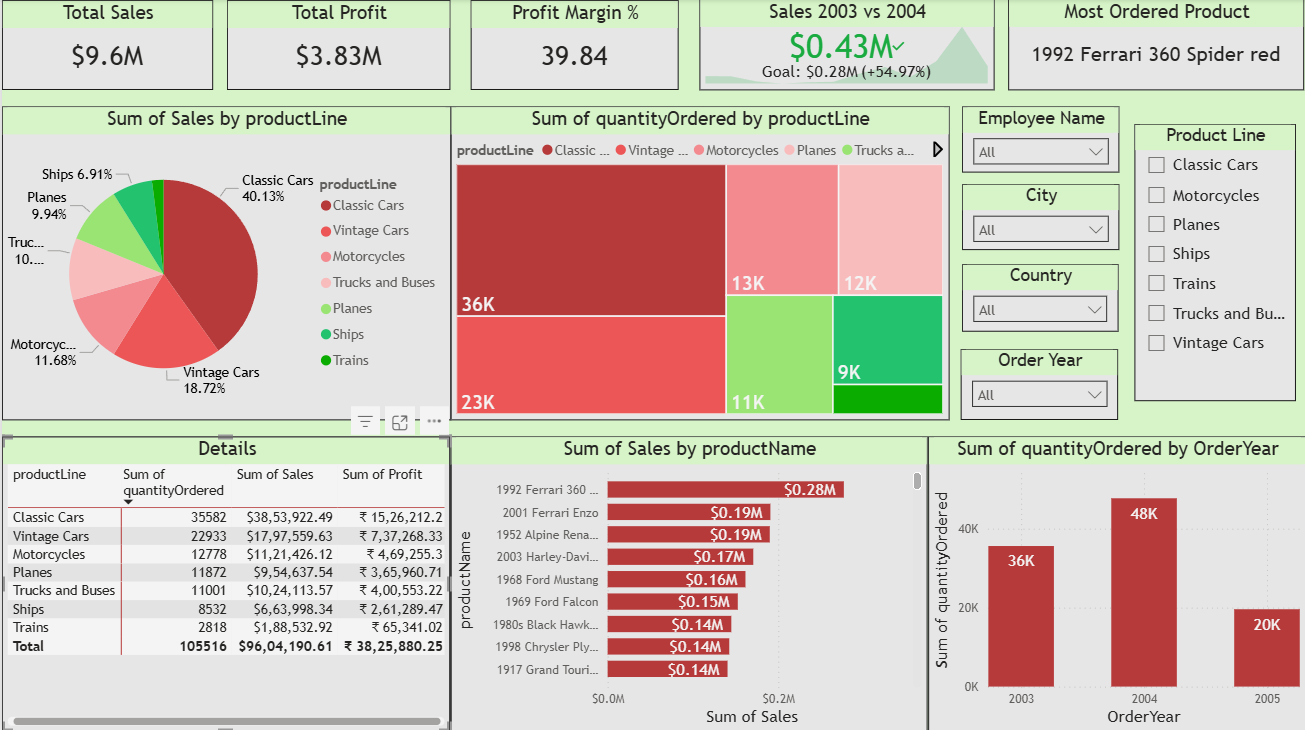

The page's visual inventory and layout, read from the dashboard file:
{"tool":"powerbi","page":{"name":"Page 2","canvas":[1280,720],"ordinal":0},"visuals":[{"type":"barChart","fields":{"Category":["products.productName"],"Y":["Sum(order details.Sales)"]},"box":[440.9,430,468.3,290.3],"z":0},{"type":"pieChart","fields":{"Category":["products.productLine"],"Y":["Sum(order details.Sales)"]},"box":[0,105.4,440.9,308.1],"z":1000},{"type":"pivotTable","title":"Details","fields":{"Rows":["products.productLine"],"Values":["Sum(order details.quantityOrdered)","Sum(order details.Sales)","Sum(order details.Profit)"]},"box":[0,430,440.9,290.3],"z":2000},{"type":"card","title":"Total Profit","fields":{"Values":["order details.Total_Profit"]},"box":[220.8,1.4,219.4,88.1],"z":3000},{"type":"kpi","title":"Sales 2003 vs 2004","fields":{"Goal":["orders.sales_2003"],"Indicator":["orders.sales_2004"],"TrendLine":["orders.Month_number"]},"box":[684.9,0,289.3,89.5],"z":4000},{"type":"treemap","fields":{"Group":["productlines.productLine"],"Values":["Sum(order details.quantityOrdered)"]},"box":[440.5,105.5,489.6,308],"z":5000},{"type":"columnChart","fields":{"Category":["orders.OrderYear"],"Y":["Sum(order details.quantityOrdered)"]},"box":[909.2,430,371.1,290.3],"z":6000},{"type":"card","title":"Profit Margin %","fields":{"Values":["order details.Profit_Margin%"]},"box":[459.8,1.4,204.1,88.1],"z":7000},{"type":"card","title":"Total Sales","fields":{"Values":["order details.Total_sale"]},"box":[0,1.4,206.9,88.1],"z":8000},{"type":"card","title":"Most Ordered Product","fields":{"Values":["orders.Top Product"]},"box":[988.2,0,290.7,89.5],"z":9000},{"type":"slicer","title":"Employee Name","fields":{"Values":["employees.FullName"]},"box":[942.3,105.5,154.6,65],"z":10000},{"type":"slicer","title":"City","fields":{"Values":["customers.city"]},"box":[942.3,181.6,154.6,65],"z":11000},{"type":"slicer","title":"Product Line","fields":{"Values":["products.productLine"]},"box":[1111.7,122.7,158.3,272.4],"z":12000},{"type":"slicer","title":"Order Year","fields":{"Values":["orders.YearofOrder"]},"box":[941.1,343.6,154.6,69.9],"z":13000},{"type":"slicer","title":"Country","fields":{"Values":["customers.country"]},"box":[942.3,260.1,153.4,66.3],"z":14000}]}

Visuals, with their boxes in screenshot pixels (x1, y1, x2, y2), scaled from the page's 1280x720 canvas onto the 1305x730 screenshot:
barChart - products.productName x Sum(order details.Sales): locate(450, 436, 927, 729)
pieChart - products.productLine x Sum(order details.Sales): locate(0, 107, 450, 419)
"Details" pivotTable: locate(0, 436, 450, 729)
"Total Profit" card: locate(225, 1, 449, 91)
"Sales 2003 vs 2004" kpi: locate(698, 0, 993, 91)
treemap - productlines.productLine x Sum(order details.quantityOrdered): locate(449, 107, 948, 419)
columnChart - orders.OrderYear x Sum(order details.quantityOrdered): locate(927, 436, 1304, 729)
"Profit Margin %" card: locate(469, 1, 677, 91)
"Total Sales" card: locate(0, 1, 211, 91)
"Most Ordered Product" card: locate(1008, 0, 1304, 91)
"Employee Name" slicer: locate(961, 107, 1118, 173)
"City" slicer: locate(961, 184, 1118, 250)
"Product Line" slicer: locate(1133, 124, 1295, 401)
"Order Year" slicer: locate(959, 348, 1117, 419)
"Country" slicer: locate(961, 264, 1117, 331)
